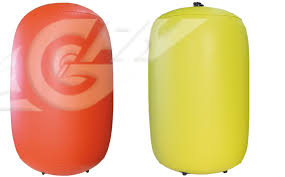buoy: (11, 3, 111, 177)
